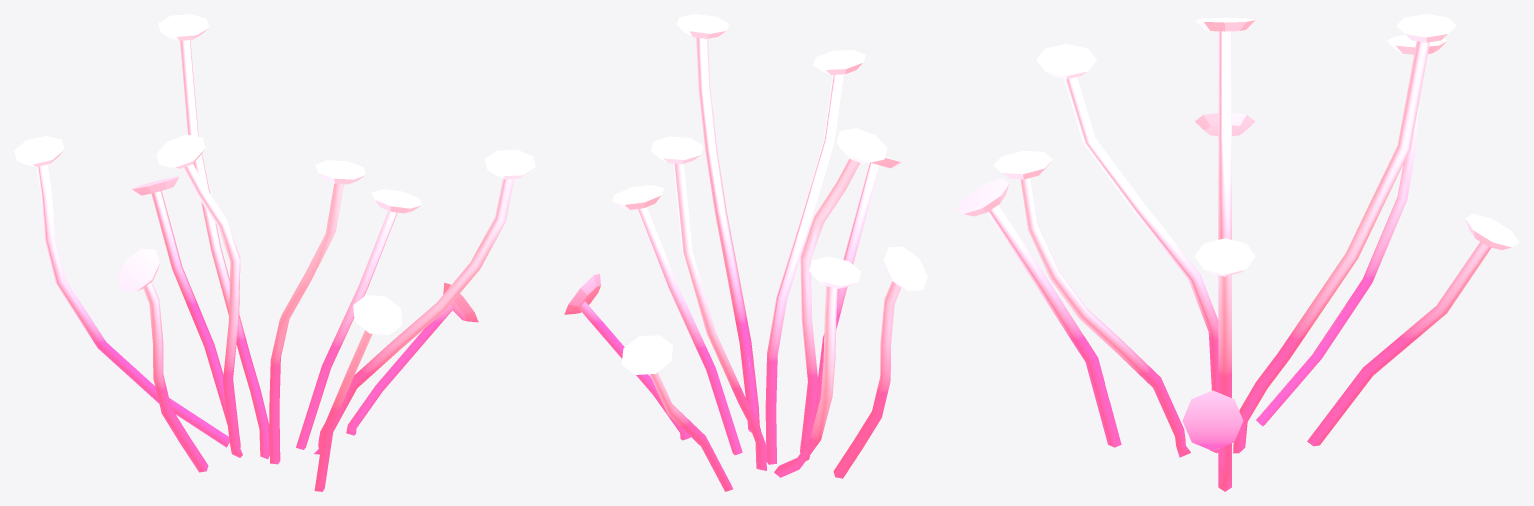
File: lightplant.fbx
3 renders of one model, left to right at view 1: azimuth 30°, elevation 25°; view 2: azimuth 150°, elevation 25°; view 3: azimuth 270°, elevation 25°, orthographic. The views are drawn at different scales.
Visible parts, largest first — view 1: Cube.009.frozen; view 2: Cube.009.frozen; view 3: Cube.009.frozen.
Boxes of the visible parts, x1,y1,x2,y2 form: Cube.009.frozen: (14,14,535,491); Cube.009.frozen: (564,14,927,491); Cube.009.frozen: (956,14,1519,491).
Bounding box in the file's own units: 71.39 × 69.45 × 82.81.
1 material, 1 textured.
